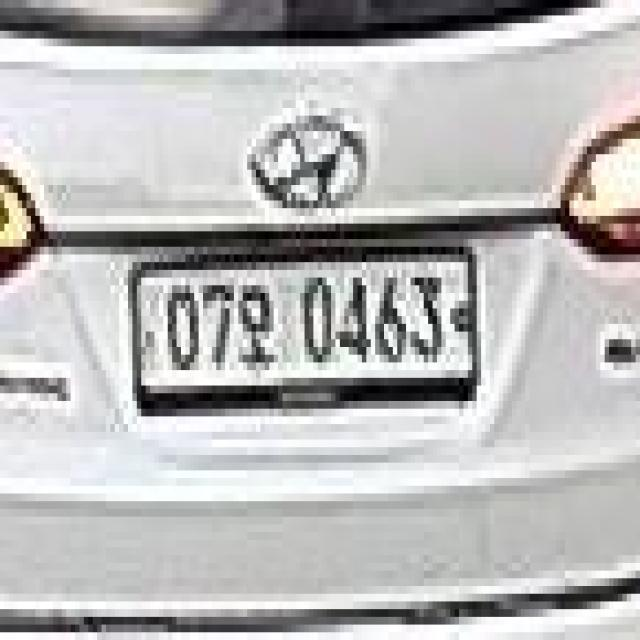illegal_plate: (129, 246, 482, 414)
